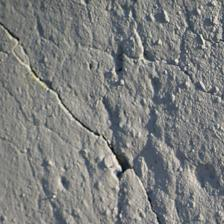Crack: (4, 27, 121, 167), (128, 164, 161, 224)
